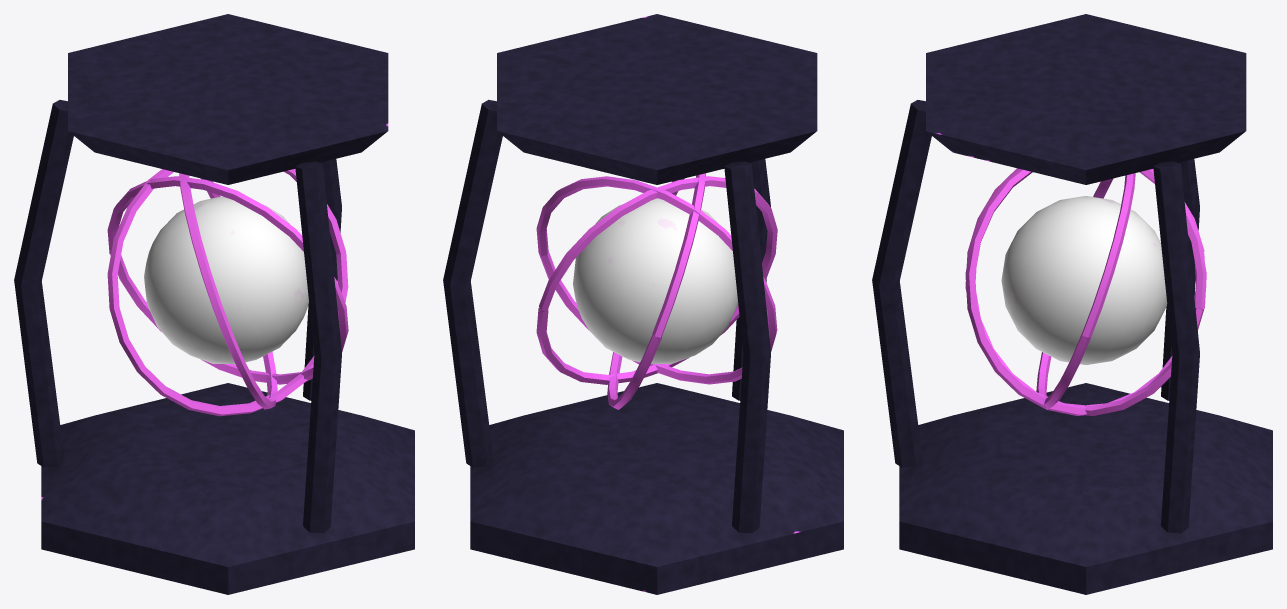
Rendered from q_mind.fbx.
3 renders of one model, left to right at view 1: azimuth 30°, elevation 25°; view 2: azimuth 150°, elevation 25°; view 3: azimuth 270°, elevation 25°, orthographic.
Visible parts, largest first — view 1: q_mind, q_mind_glow; view 2: q_mind, q_mind_glow; view 3: q_mind, q_mind_glow.
Boxes of the visible parts, x1,y1,x2,y2 form: q_mind: (14,14,414,594); q_mind_glow: (107,169,348,416); q_mind: (443,14,843,594); q_mind_glow: (536,173,777,409); q_mind: (872,14,1272,594); q_mind_glow: (965,168,1206,415).
Size of the model in its own units: 560 by 600 by 520.
Materials: 1 (1 with a texture image).
